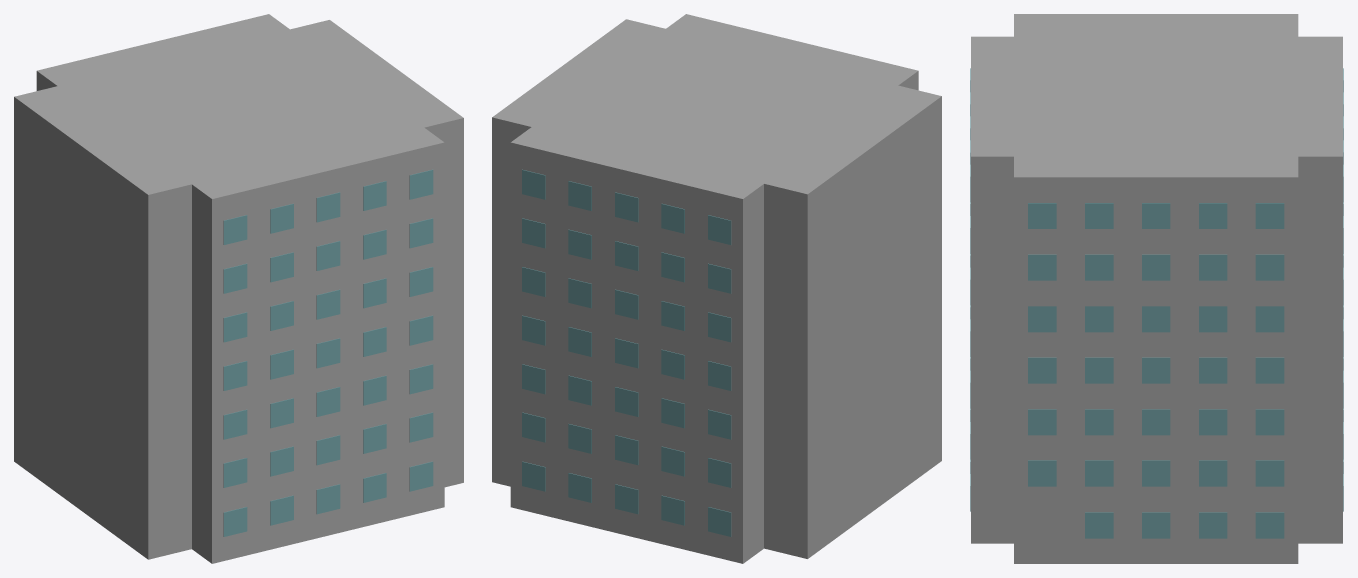
File: Building_005_City_003.fbx
3 renders of one model, left to right at view 1: azimuth 30°, elevation 25°; view 2: azimuth 150°, elevation 25°; view 3: azimuth 270°, elevation 25°, orthographic. The views are drawn at different scales.
Parts seen in each view (by area): view 1: Building_005_City_003; view 2: Building_005_City_003; view 3: Building_005_City_003.
Part boxes in pixels (x1,y1,x2,y2): Building_005_City_003: [14, 14, 463, 563]; Building_005_City_003: [492, 14, 941, 563]; Building_005_City_003: [970, 14, 1343, 563].
Size of the model in its own units: 1360 by 1500 by 1313.
